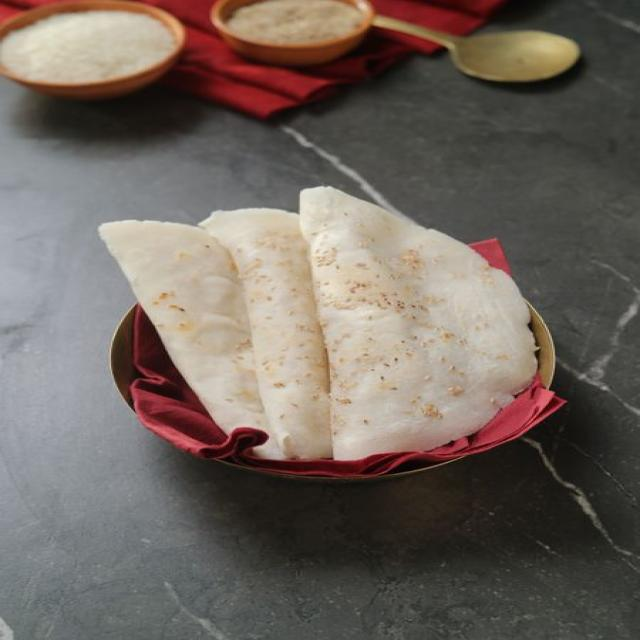RICE BHAKRI: (299, 187, 536, 460), (100, 220, 266, 433), (199, 209, 331, 459)
